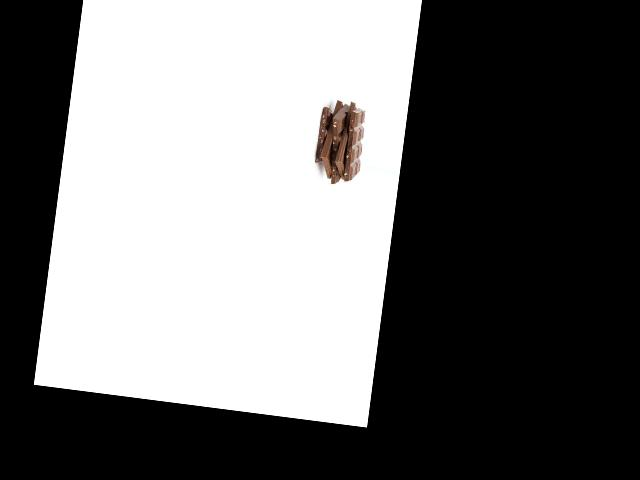chocolate: (308, 99, 349, 179)
